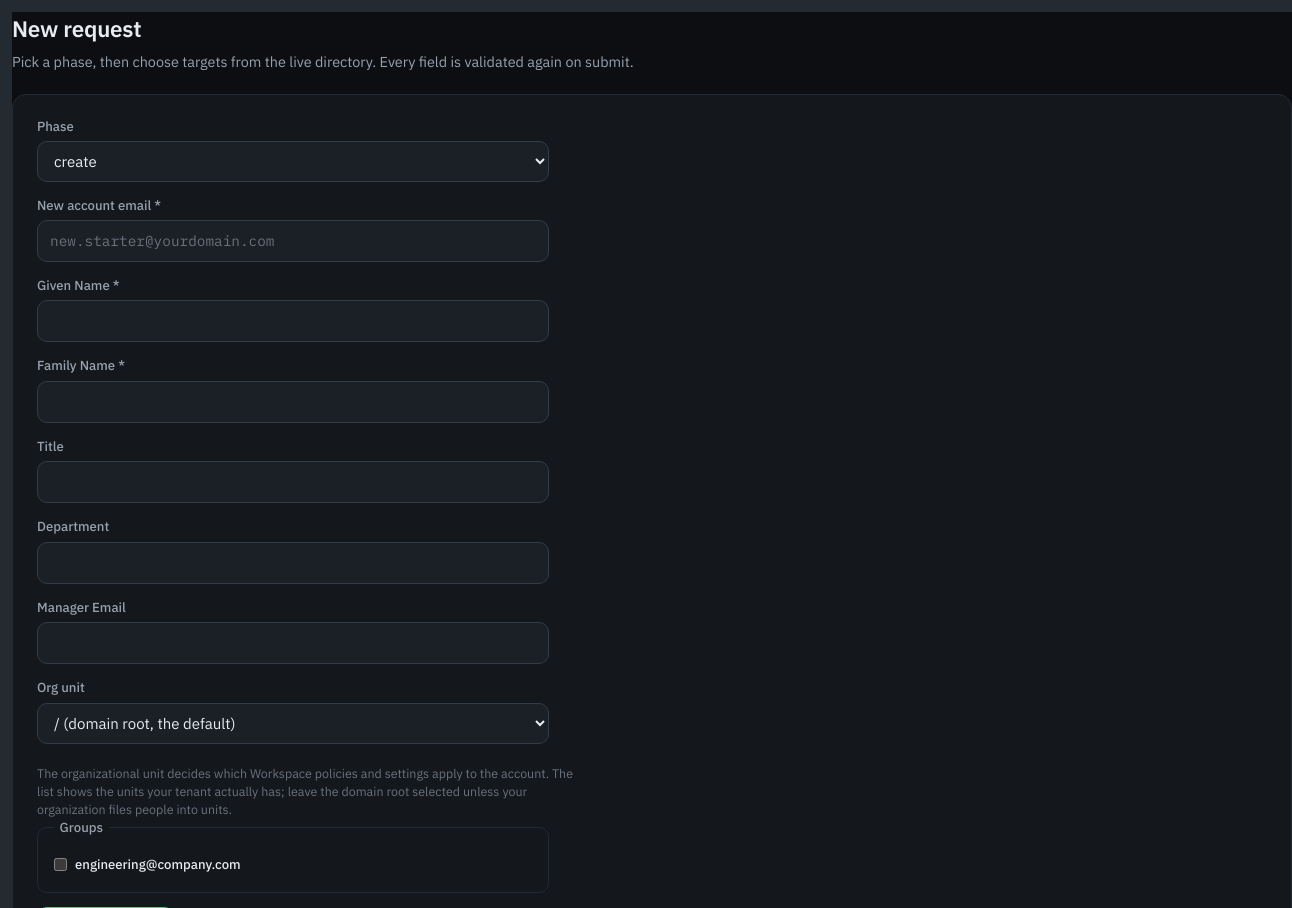
Scenario: the create phase takes a typed address, because its target must not exist › returns to the picker when the phase acts on an existing account
Select "update" in the dropdown labelled "Phase" at (293, 162), box [37,141,549,182]
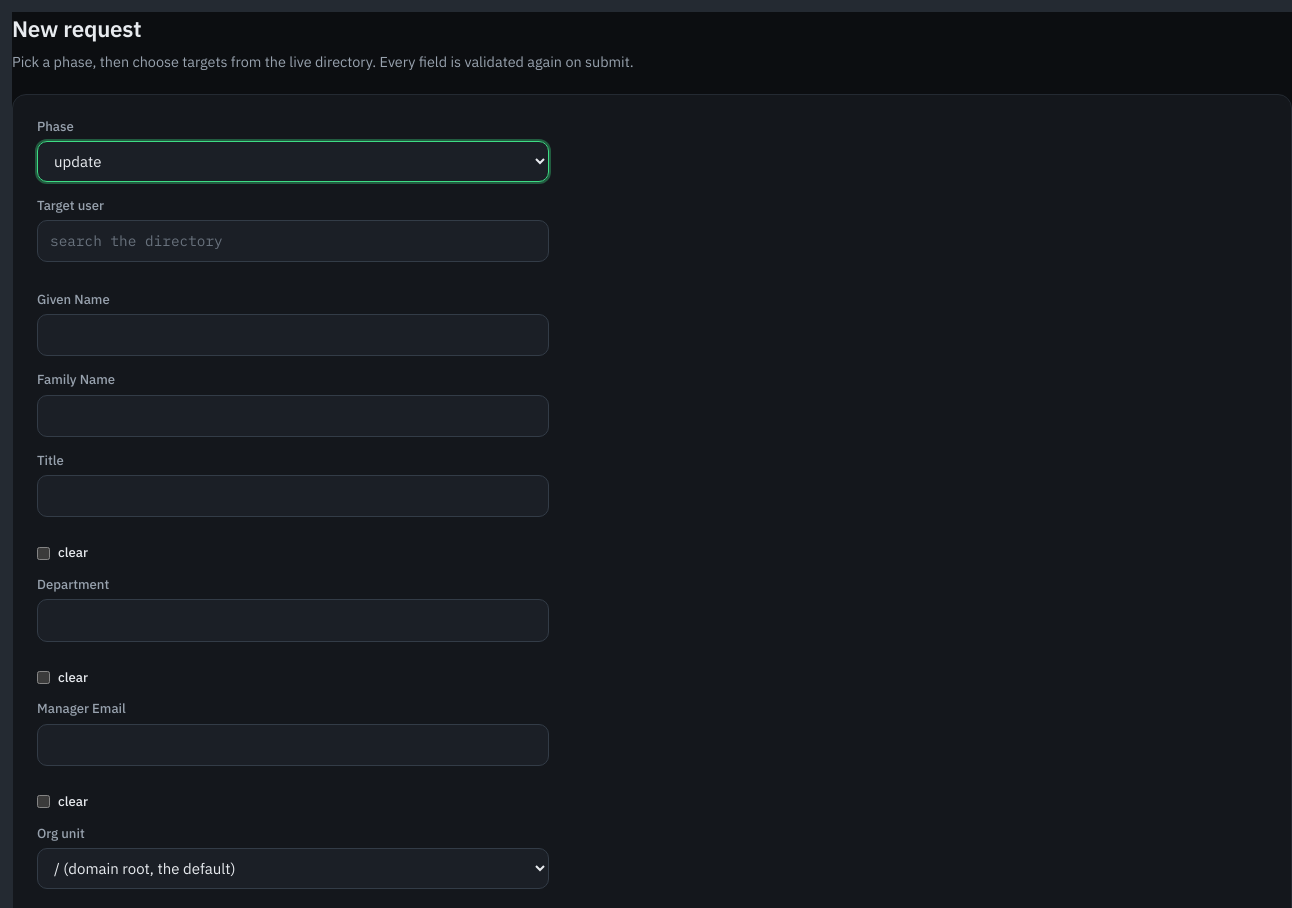
expect the search field with placeholder "search the directory" is shown: met, box [37,220,549,262]
expect the label labelled "New account email" is gone: met
